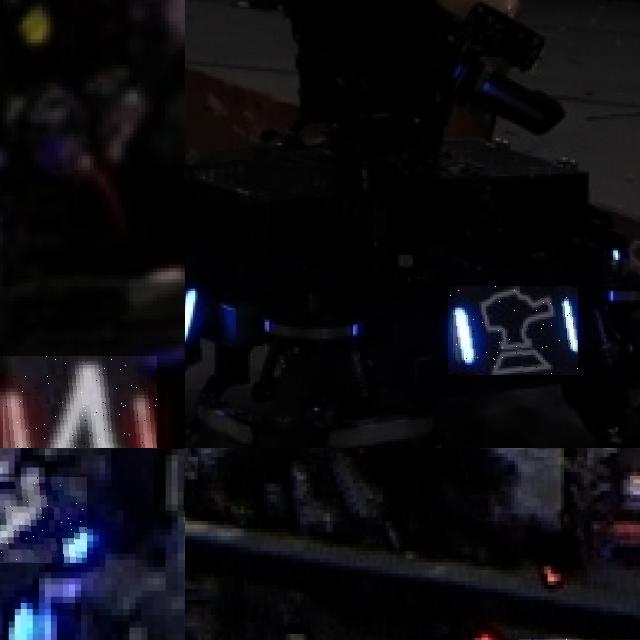B1: (0, 477, 87, 563)
Bs: (448, 286, 578, 375)
R4: (0, 355, 157, 448)
